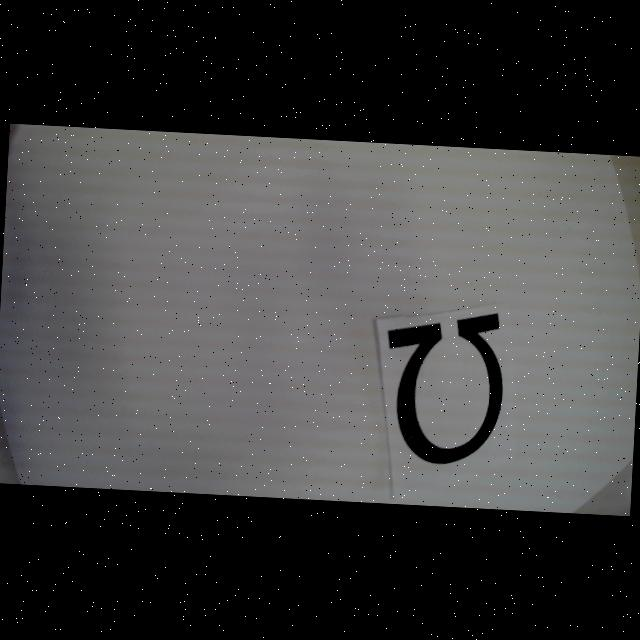OMEGA: (380, 307, 507, 468)
